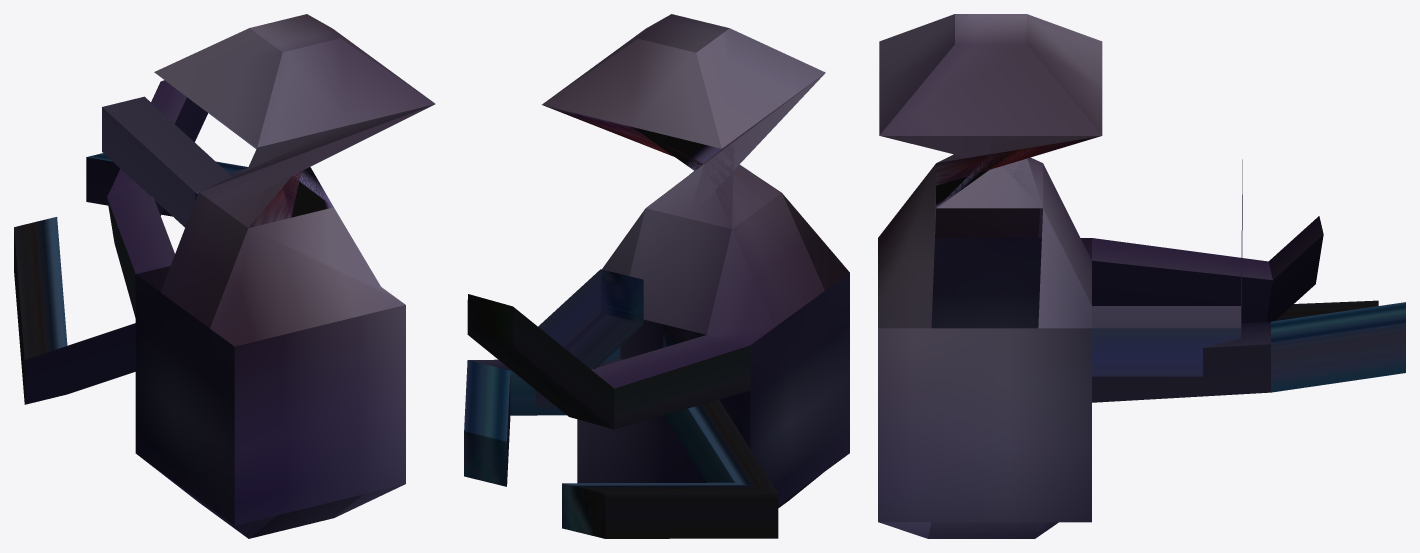
The model's file is cockroboches fbx.fbx.
The picture shows the model from 3 angles, left to right: view 1: azimuth 30°, elevation 25°; view 2: azimuth 150°, elevation 25°; view 3: azimuth 270°, elevation 25°; orthographic projection. The views are drawn at different scales.
Parts seen in each view (by area): view 1: Cube; view 2: Cube; view 3: Cube.
Part boxes in pixels (x1,y1,x2,y2): Cube: (14,14,435,538); Cube: (464,14,849,538); Cube: (878,14,1405,538).
Bounding box in the file's own units: 317 × 520 × 494.
